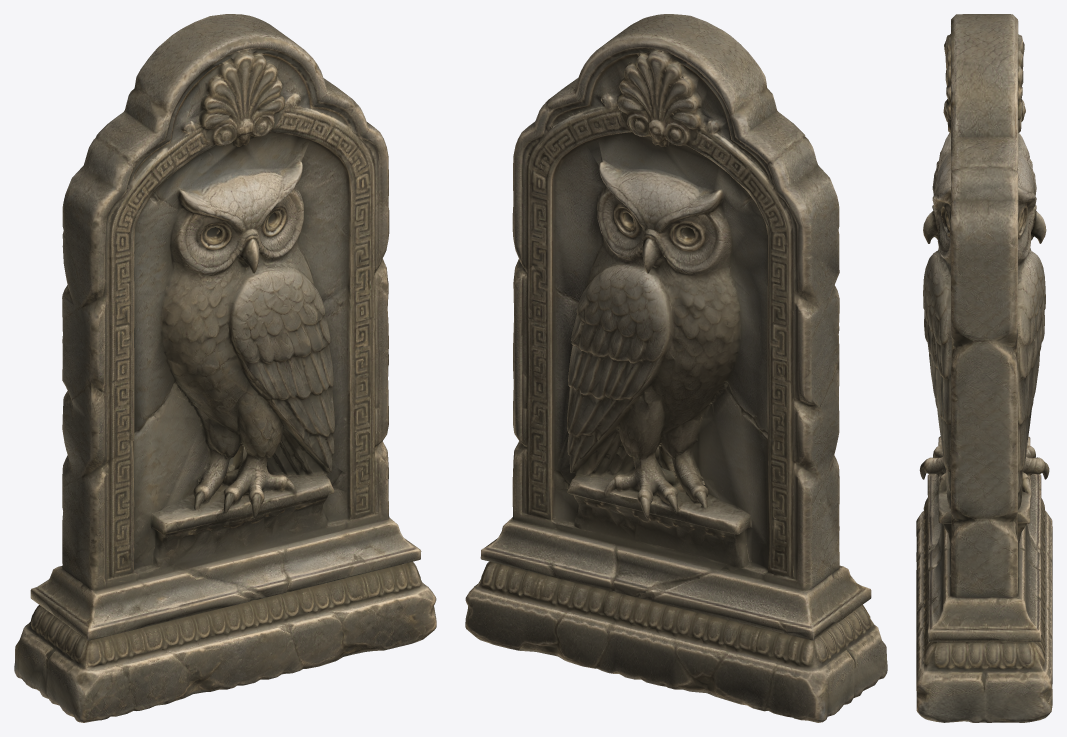
File: WF_GreekRelics_OwlStele.fbx
The picture shows the model from 3 angles, left to right: view 1: azimuth 30°, elevation 25°; view 2: azimuth 150°, elevation 25°; view 3: azimuth 270°, elevation 25°; orthographic projection. The views are drawn at different scales.
Visible parts, largest first — view 1: Mesh1.0; view 2: Mesh1.0; view 3: Mesh1.0.
Boxes of the visible parts, x1,y1,x2,y2 form: Mesh1.0: (14, 14, 436, 722); Mesh1.0: (465, 14, 887, 722); Mesh1.0: (916, 14, 1052, 722).
Size of the model in its own units: 114 by 191 by 38.4.
Materials: 1 (1 with a texture image).
